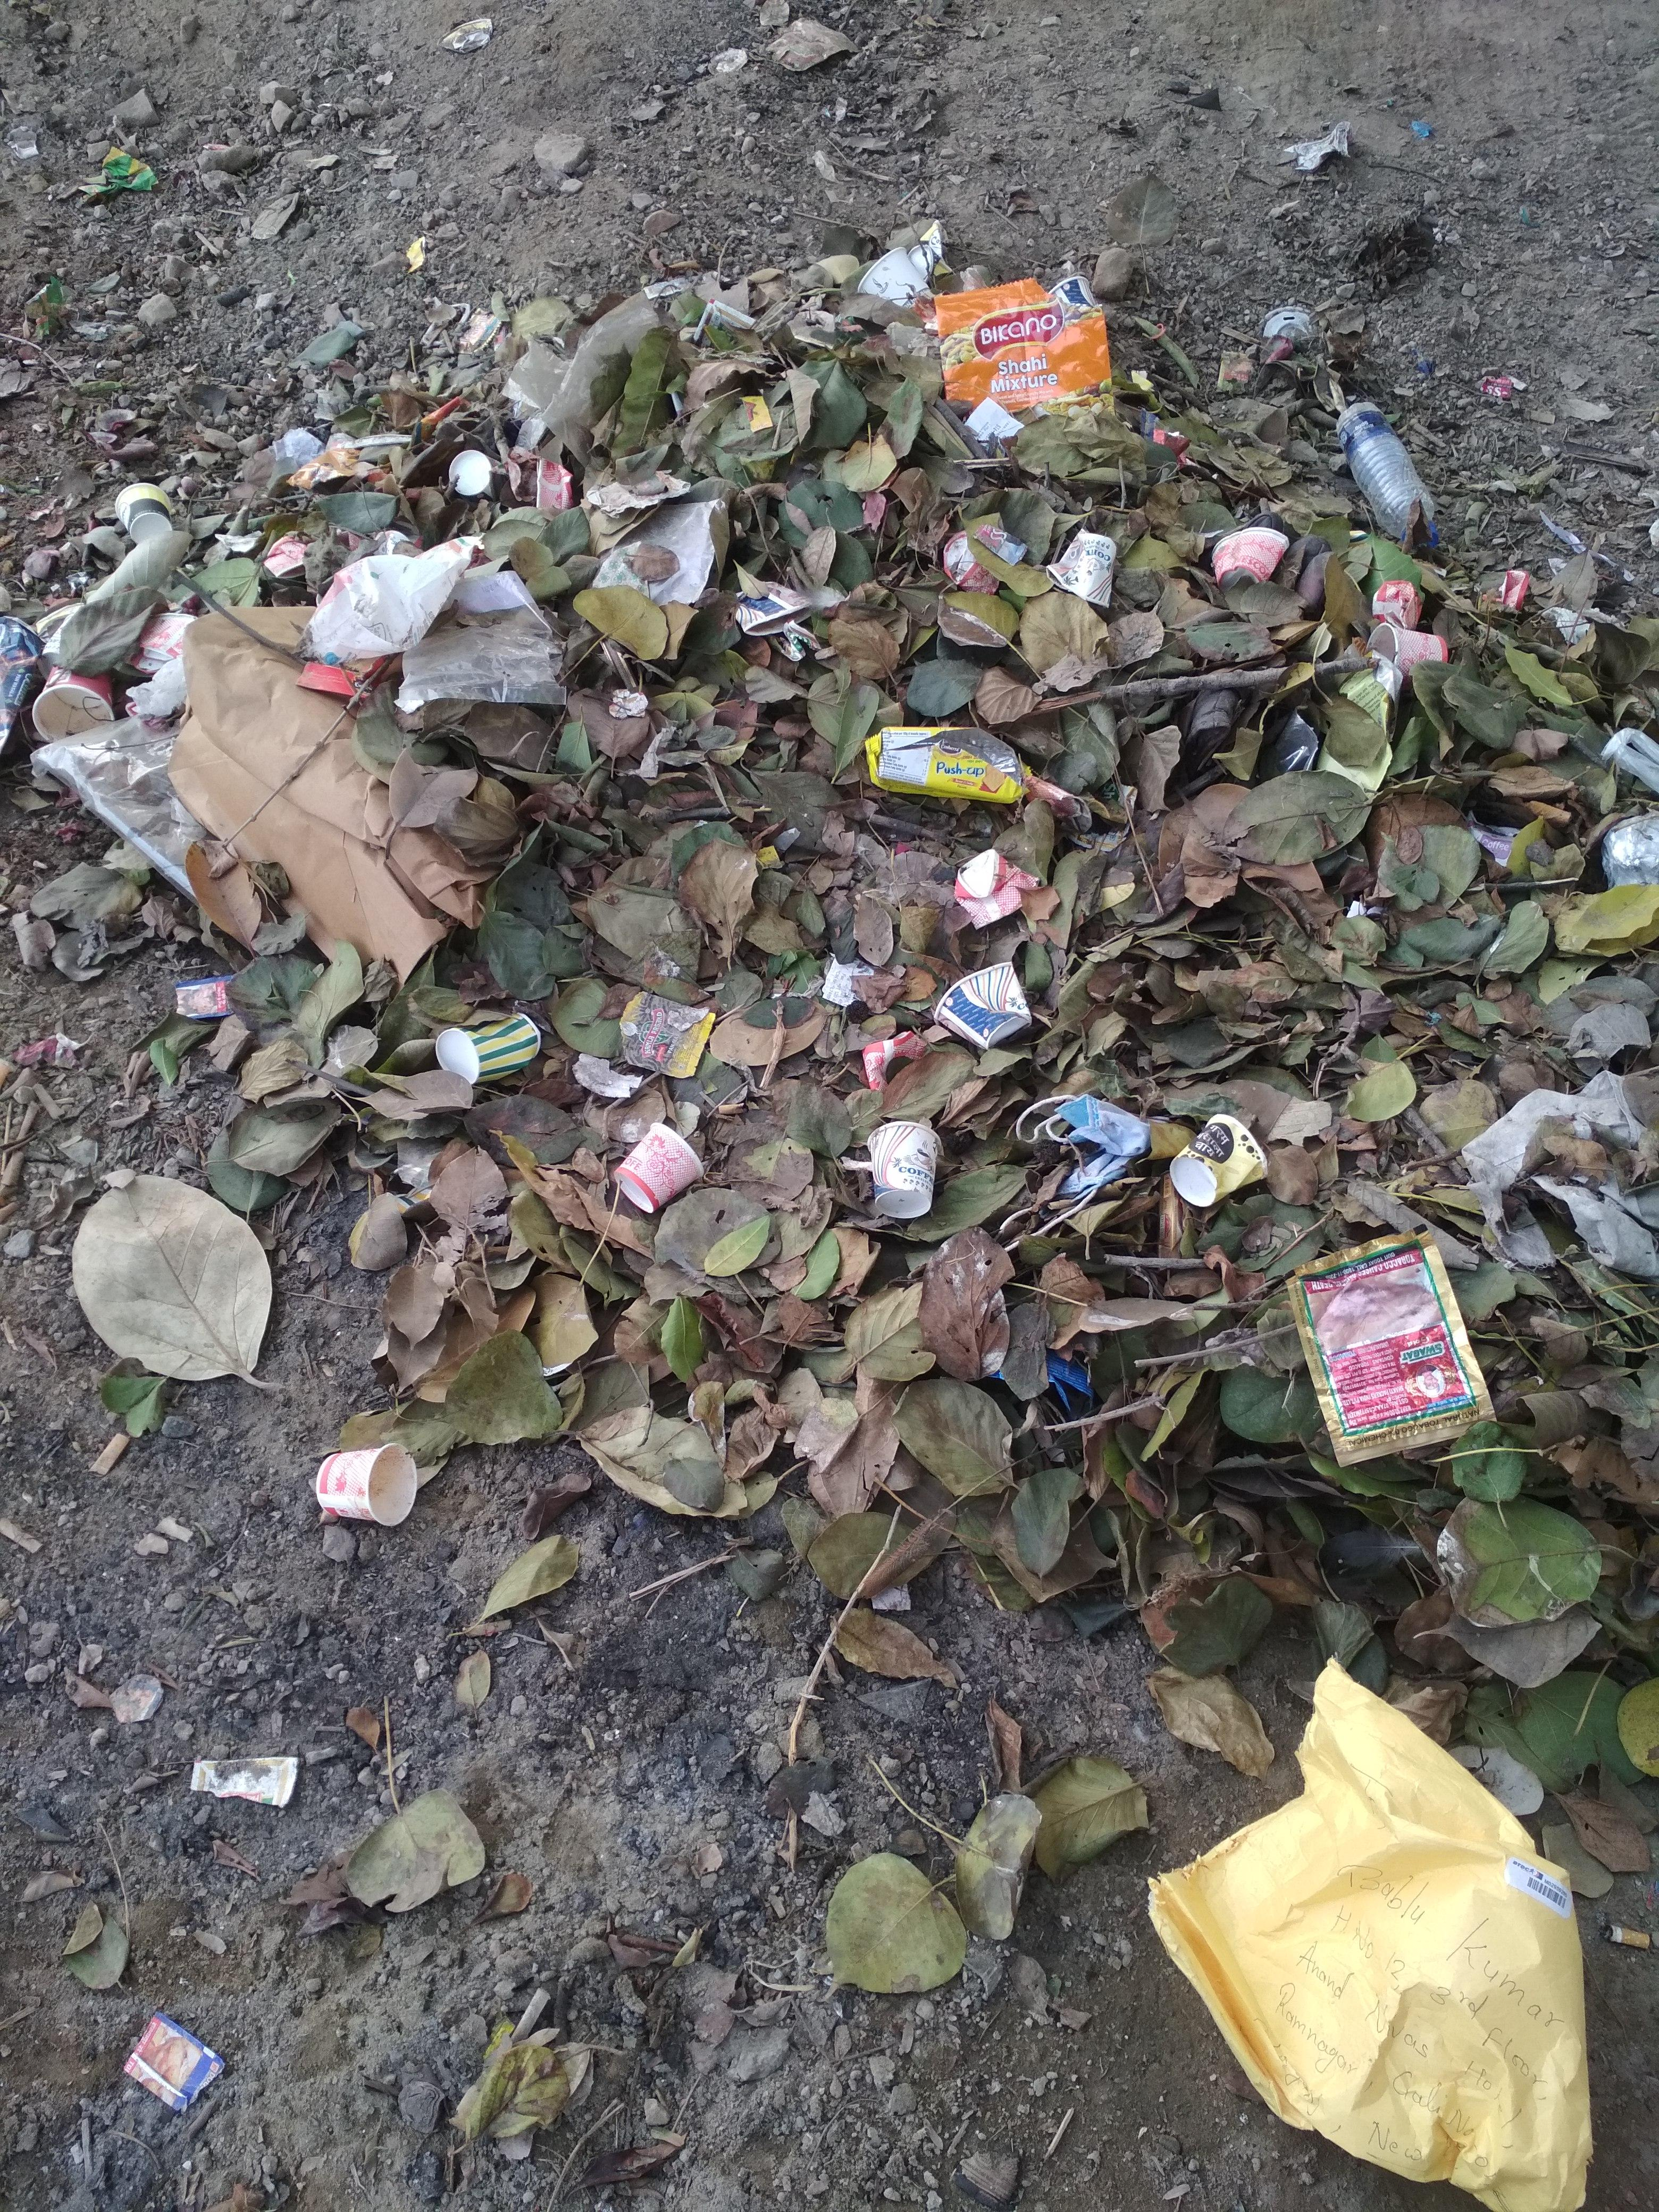trash: (16, 204, 1659, 2212)
